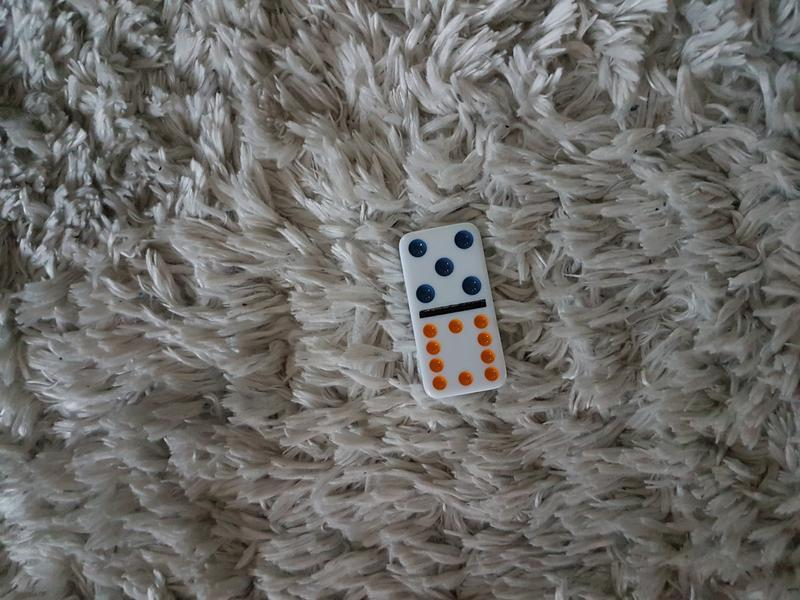Domino: (396, 218, 512, 402)
